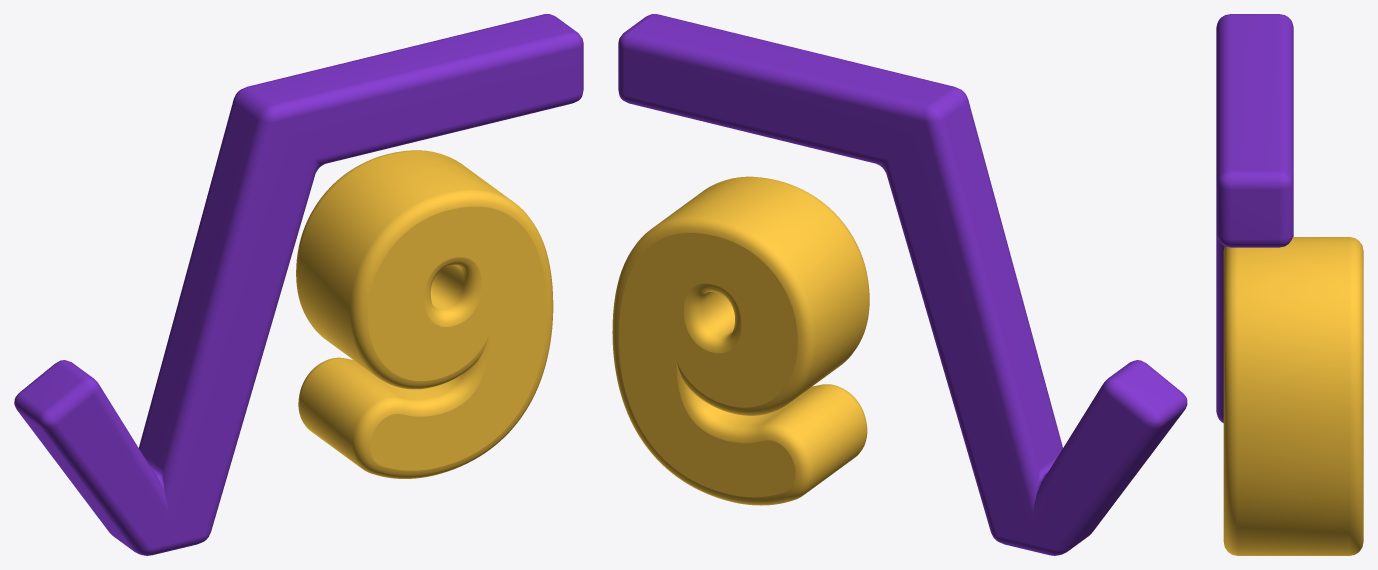
The model's file is square-root.glb.
The picture shows the model from 3 angles, left to right: view 1: azimuth 30°, elevation 25°; view 2: azimuth 150°, elevation 25°; view 3: azimuth 270°, elevation 25°; orthographic projection. The views are drawn at different scales.
Parts seen in each view (by area): view 1: Violet radical, Sunshine nine; view 2: Violet radical, Sunshine nine; view 3: Sunshine nine, Violet radical.
Part boxes in pixels (x1,y1,x2,y2): Violet radical: [14, 14, 583, 555]; Sunshine nine: [296, 150, 553, 478]; Violet radical: [618, 14, 1187, 555]; Sunshine nine: [612, 176, 869, 505]; Sunshine nine: [1223, 237, 1363, 555]; Violet radical: [1216, 14, 1293, 422].
Size of the model in its own units: 2.08 by 1.54 by 0.4574.
